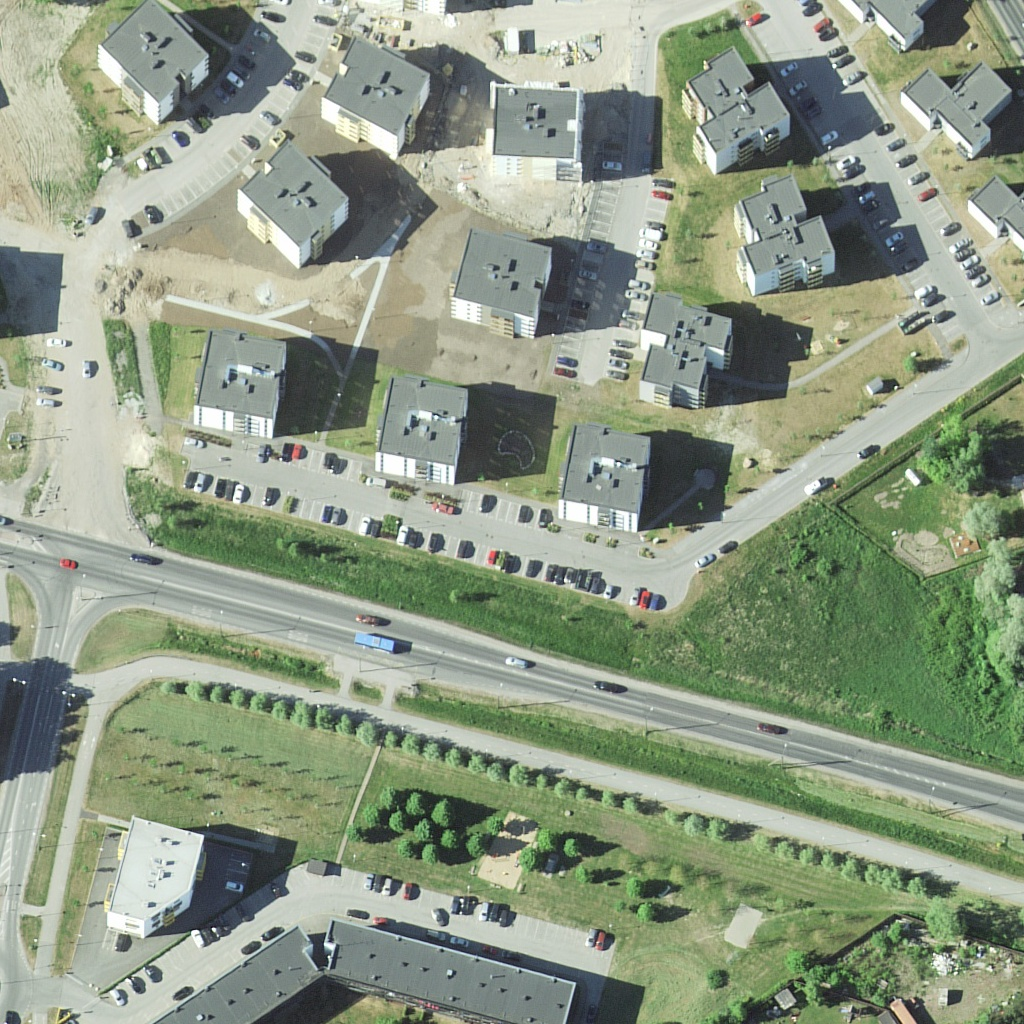building: (321, 921, 579, 1024), (163, 925, 318, 1024), (681, 41, 792, 179), (96, 1, 217, 122), (227, 139, 344, 262), (315, 33, 441, 146), (731, 179, 844, 297), (630, 288, 738, 410), (103, 813, 207, 938), (904, 52, 1012, 163), (450, 226, 556, 339), (485, 76, 587, 193), (376, 365, 471, 485), (191, 323, 283, 445), (560, 419, 651, 531), (965, 172, 1024, 243)
